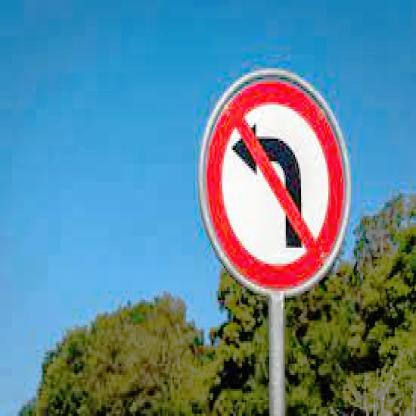No left turn: (190, 64, 346, 298)
